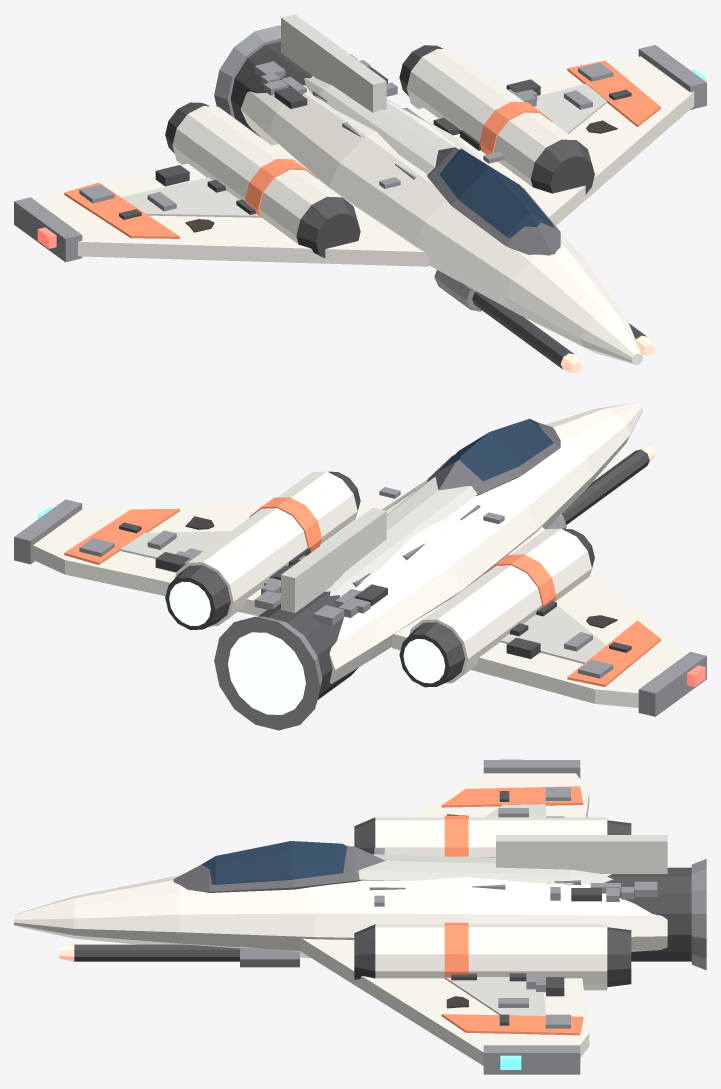
File: starfighter.glb
3 views of the same model, one above another, from view 1: azimuth 30°, elevation 25°; view 2: azimuth 150°, elevation 25°; view 3: azimuth 270°, elevation 25° (orthographic). The views are drawn at different scales.
Visible parts, largest first — view 1: starfighter; view 2: starfighter; view 3: starfighter.
Boxes of the visible parts, x1,y1,x2,y2 form: starfighter: (14, 14, 706, 373); starfighter: (14, 402, 706, 730); starfighter: (14, 759, 706, 1074).
Size of the model in its own units: 2.36 by 0.4652 by 2.3.
